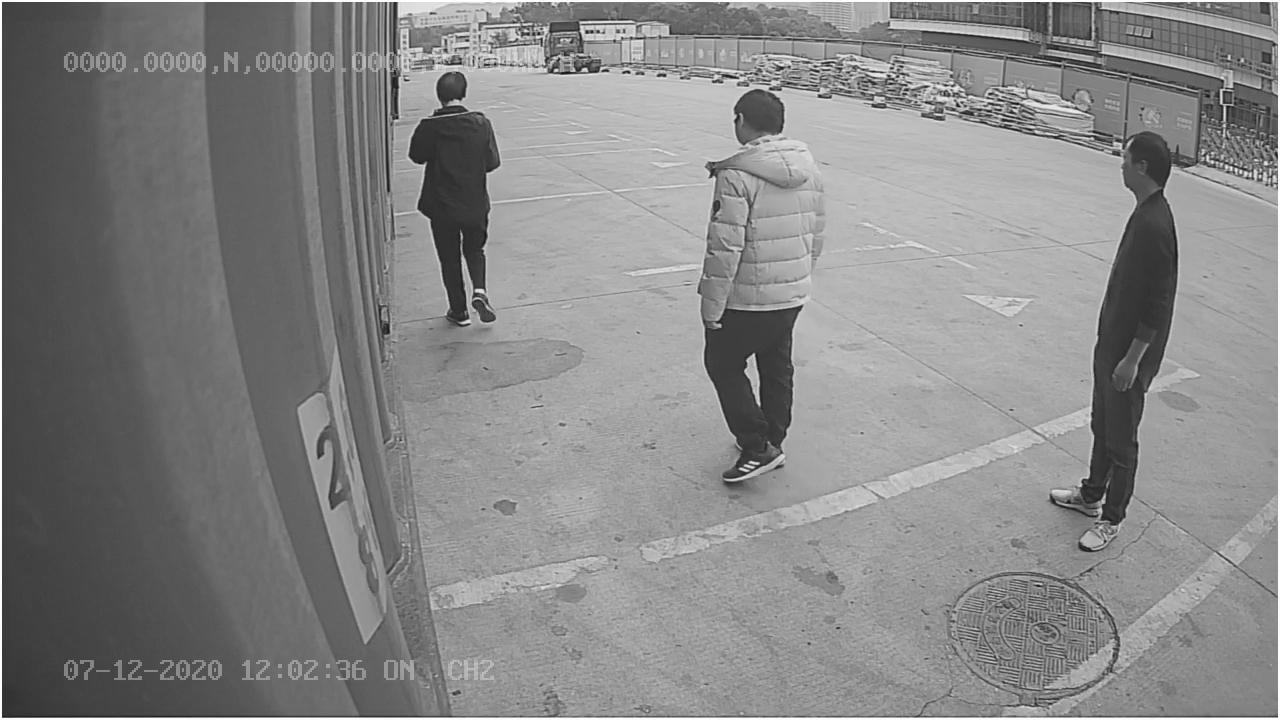person: (1045, 130, 1180, 553), (693, 88, 833, 492), (408, 65, 510, 333)
